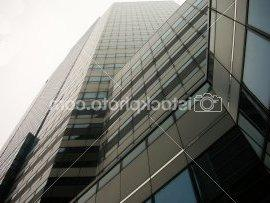building: (0, 2, 270, 203)
